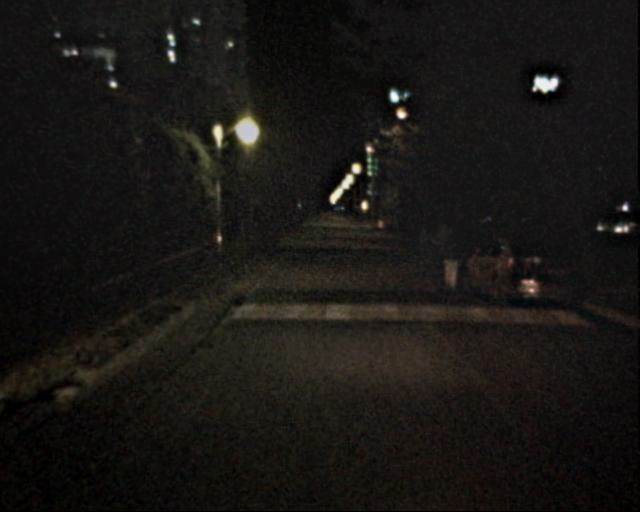person: (436, 226, 463, 293), (415, 226, 436, 277), (431, 220, 451, 269)
